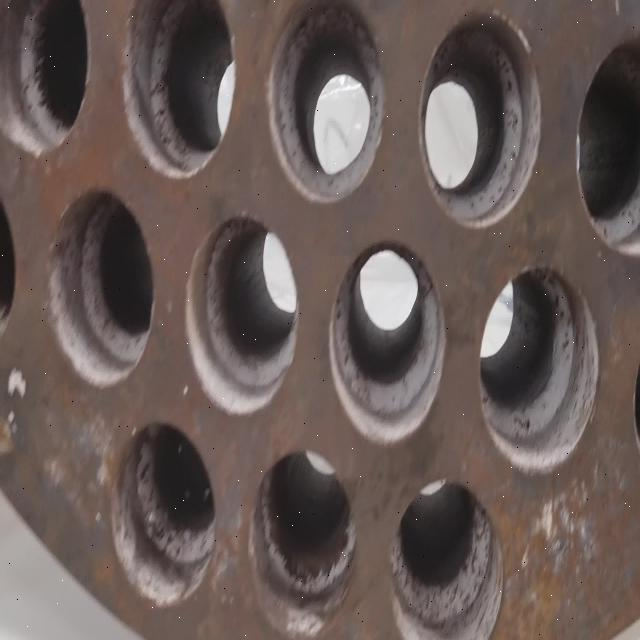Hole: (418, 8, 542, 230), (480, 264, 600, 473), (328, 238, 447, 444), (265, 0, 385, 204), (185, 212, 298, 416), (46, 184, 154, 388), (248, 447, 358, 638), (121, 0, 236, 180), (112, 417, 218, 607), (389, 477, 505, 640), (577, 31, 640, 256), (4, 0, 90, 156)
